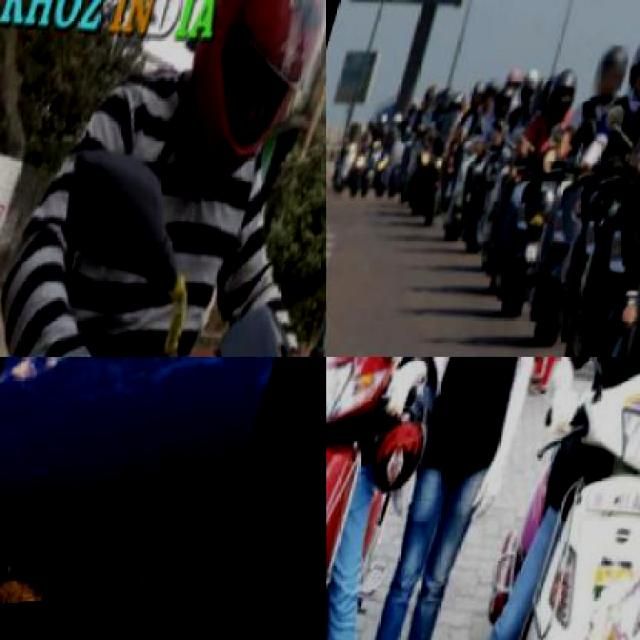With Helmet: (161, 0, 324, 218), (592, 48, 636, 108), (548, 70, 588, 125), (496, 85, 524, 126), (481, 78, 508, 117), (624, 37, 638, 112), (469, 79, 494, 115)
